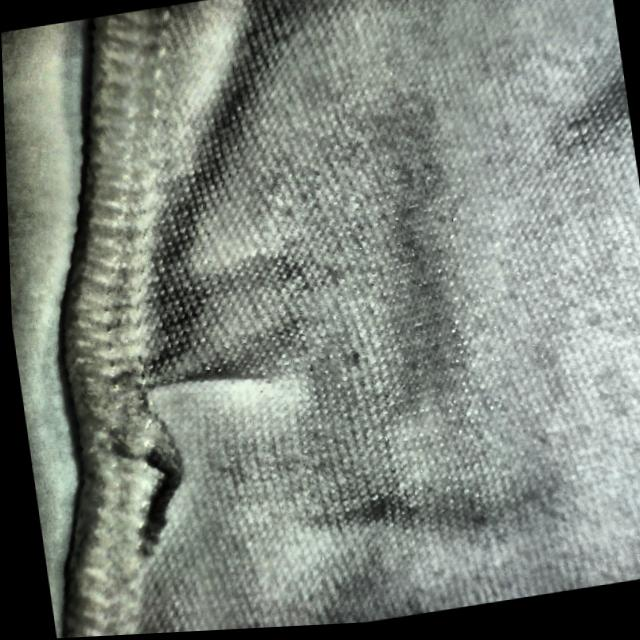seam: (62, 333, 260, 549)
